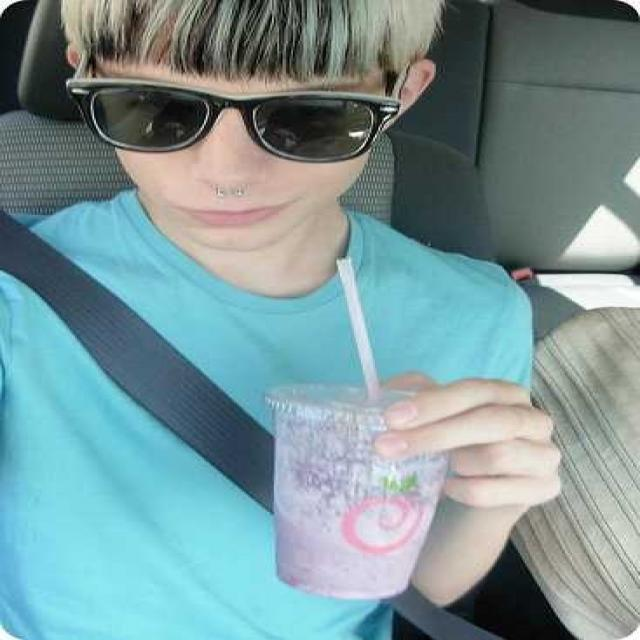seatbelt: (22, 210, 454, 628)
